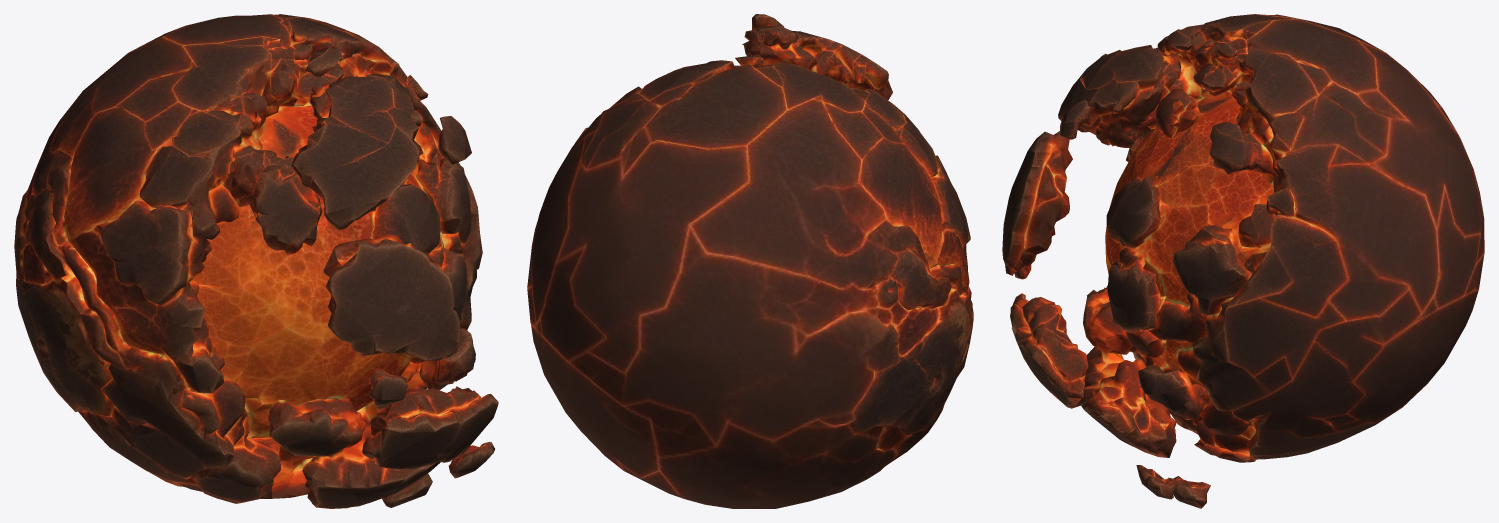
Rendered from patlamis_gezegen_2.glb.
The picture shows the model from 3 angles, left to right: view 1: azimuth 30°, elevation 25°; view 2: azimuth 150°, elevation 25°; view 3: azimuth 270°, elevation 25°; orthographic projection. The views are drawn at different scales.
Bounding box in the file's own units: 1.71 × 1.89 × 1.89.
1 material, 1 textured.
